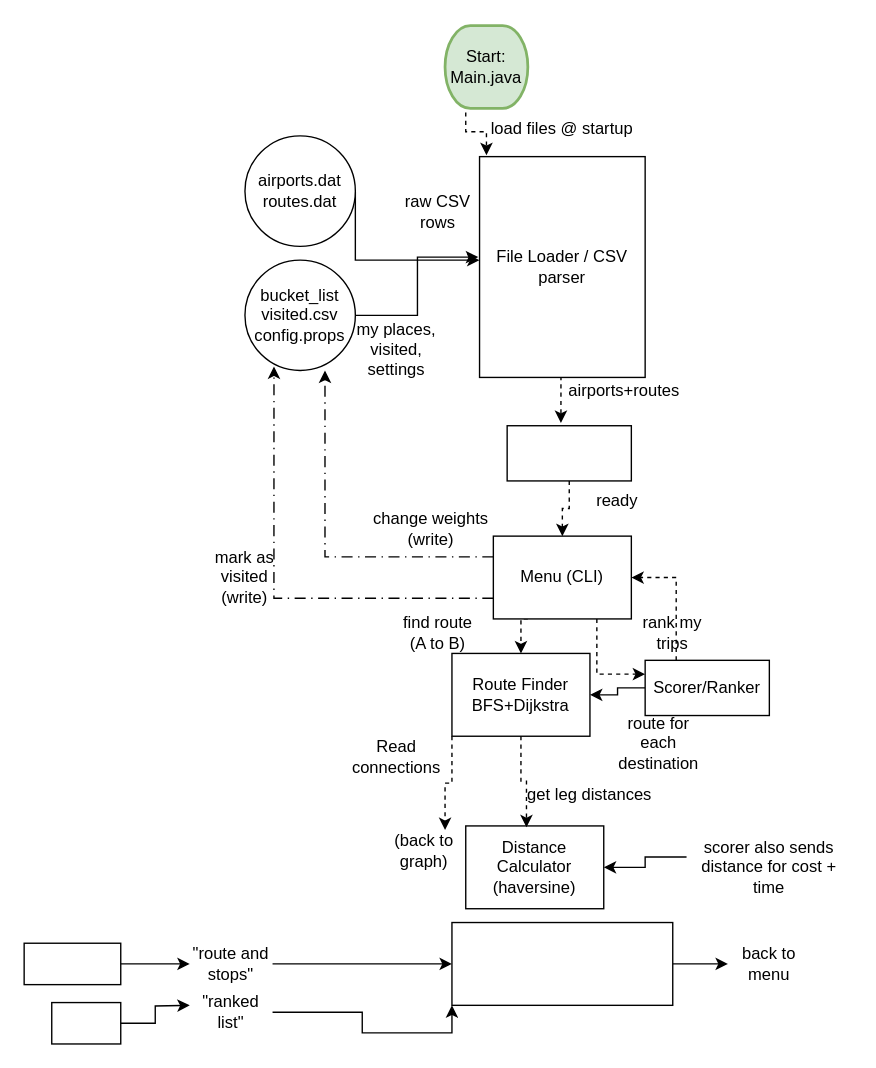
The diagram is 876 pixels wide and 1068 high, and some of its shapes have lost their labels. Here are the shapes that lost their labels. From the top down, the centre of each, then its label:
At (568,452): "Graph".
At (72,963): "Route Finder".
At (562,963): "Terminal Output".
At (85,1022): "Scorer".
